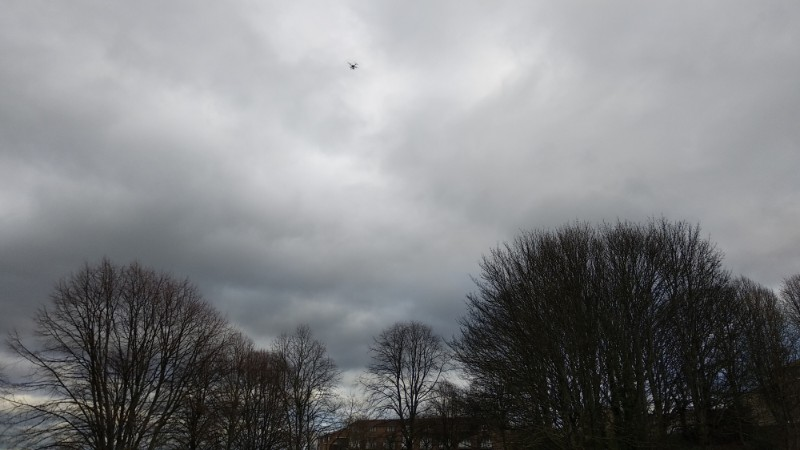drone: (347, 62, 361, 71)
